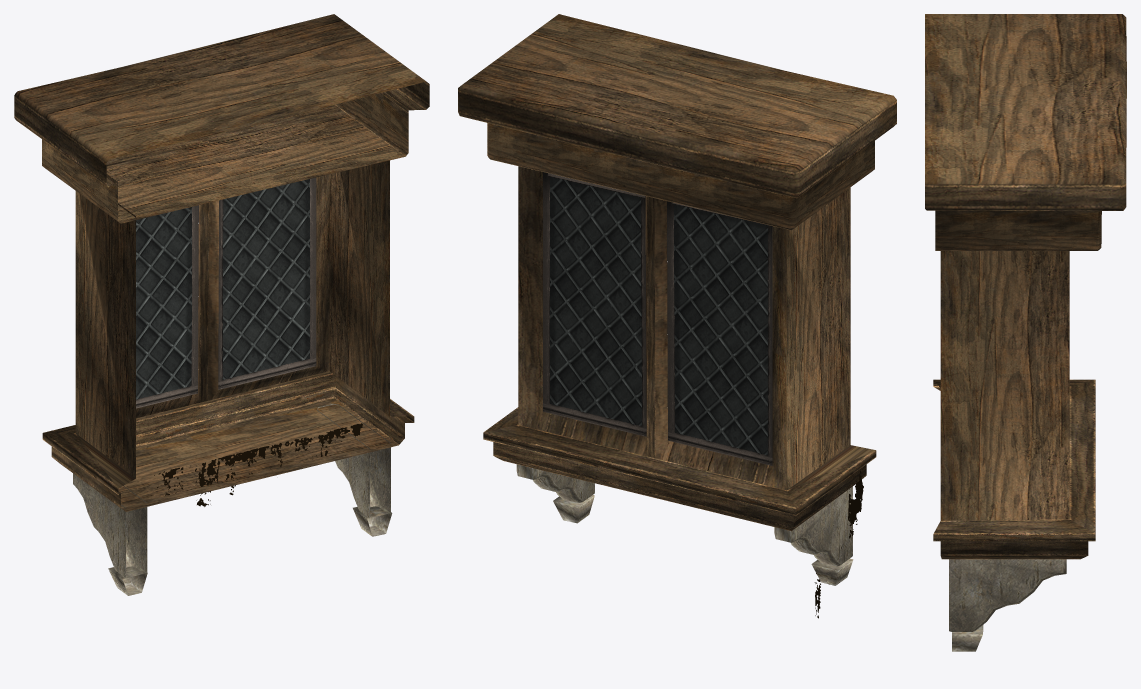
Rendered from balkony2.dae.
3 views of the same model, side by side, from view 1: azimuth 30°, elevation 25°; view 2: azimuth 150°, elevation 25°; view 3: azimuth 270°, elevation 25° (orthographic). The views are drawn at different scales.
Visible parts, largest first — view 1: meshU3D; view 2: meshU3D; view 3: meshU3D.
Part boxes in pixels (left/top/right/bottom): meshU3D: left=14, top=14, right=429, bottom=595; meshU3D: left=458, top=14, right=896, bottom=618; meshU3D: left=925, top=14, right=1126, bottom=651.
Size of the model in its own units: 2.26 by 3.57 by 1.14.
